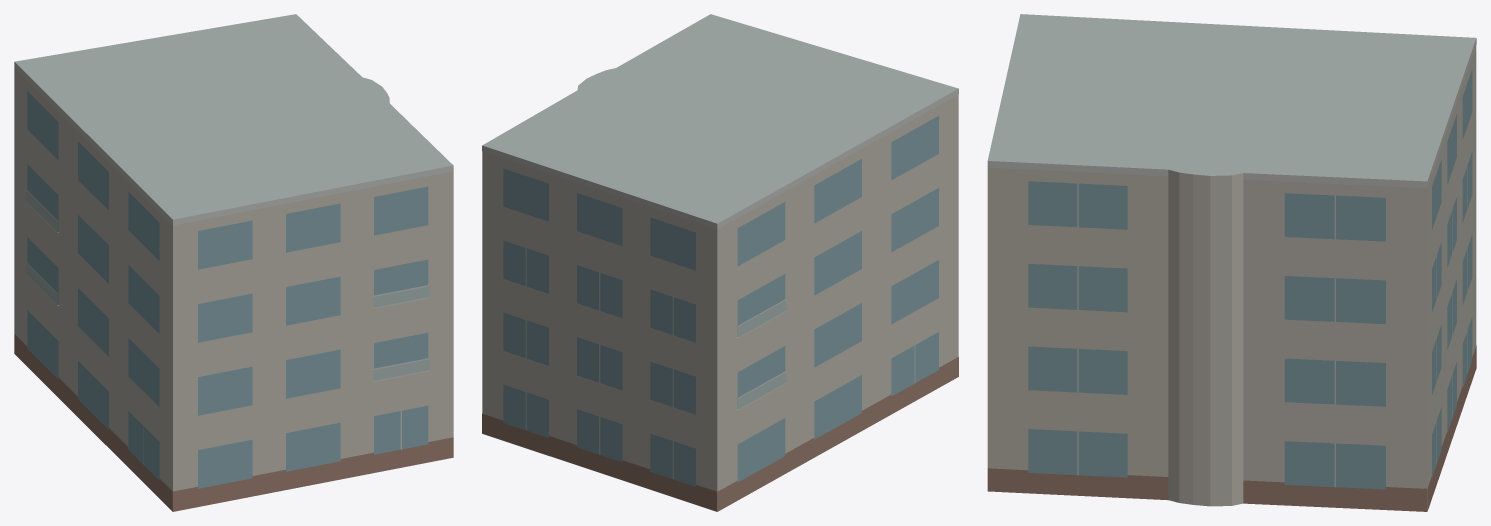
Rendered from survey-upis-32943688.glb.
The picture shows the model from 3 angles, left to right: view 1: azimuth 30°, elevation 25°; view 2: azimuth 150°, elevation 25°; view 3: azimuth 270°, elevation 25°; orthographic projection. The views are drawn at different scales.
Visible parts, largest first — view 1: survey-upis-32943688.tmp; view 2: survey-upis-32943688.tmp; view 3: survey-upis-32943688.tmp.
Boxes of the visible parts, box(x1,y1,x2,y2) form: survey-upis-32943688.tmp: box(14, 14, 453, 511); survey-upis-32943688.tmp: box(482, 14, 958, 511); survey-upis-32943688.tmp: box(987, 14, 1476, 511).
Bounding box in the file's own units: 13.26 × 12.2 × 16.36.
